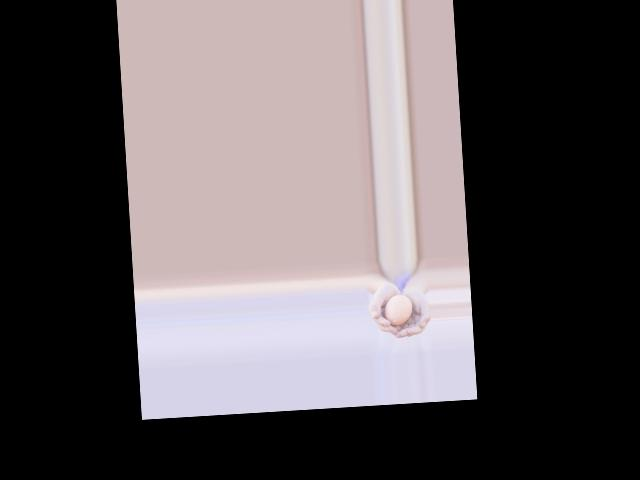egg: (384, 293, 414, 326)
